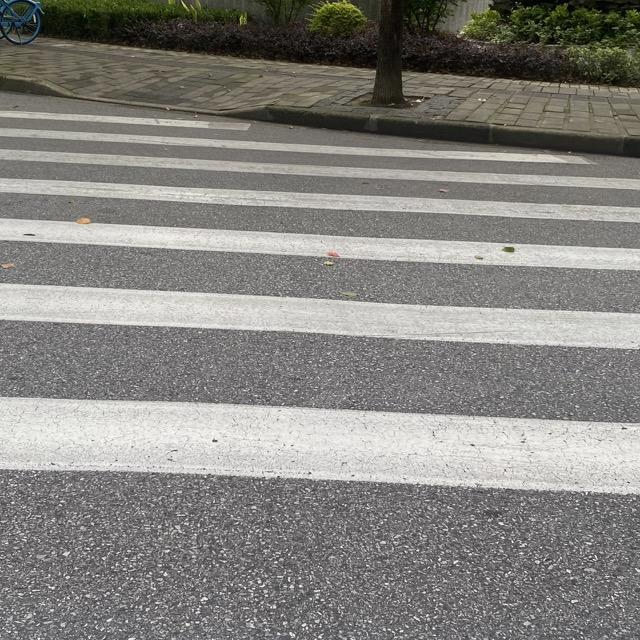curb: (225, 106, 639, 158), (66, 93, 229, 116), (0, 76, 88, 100)
